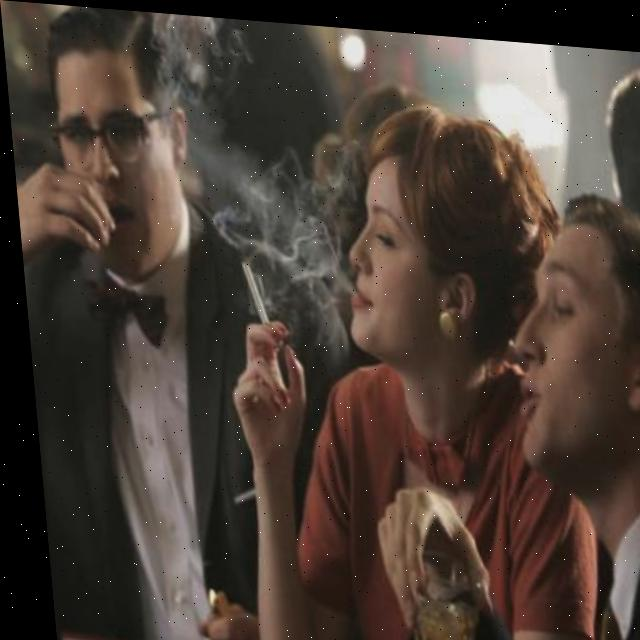cigarette: (233, 256, 267, 324)
